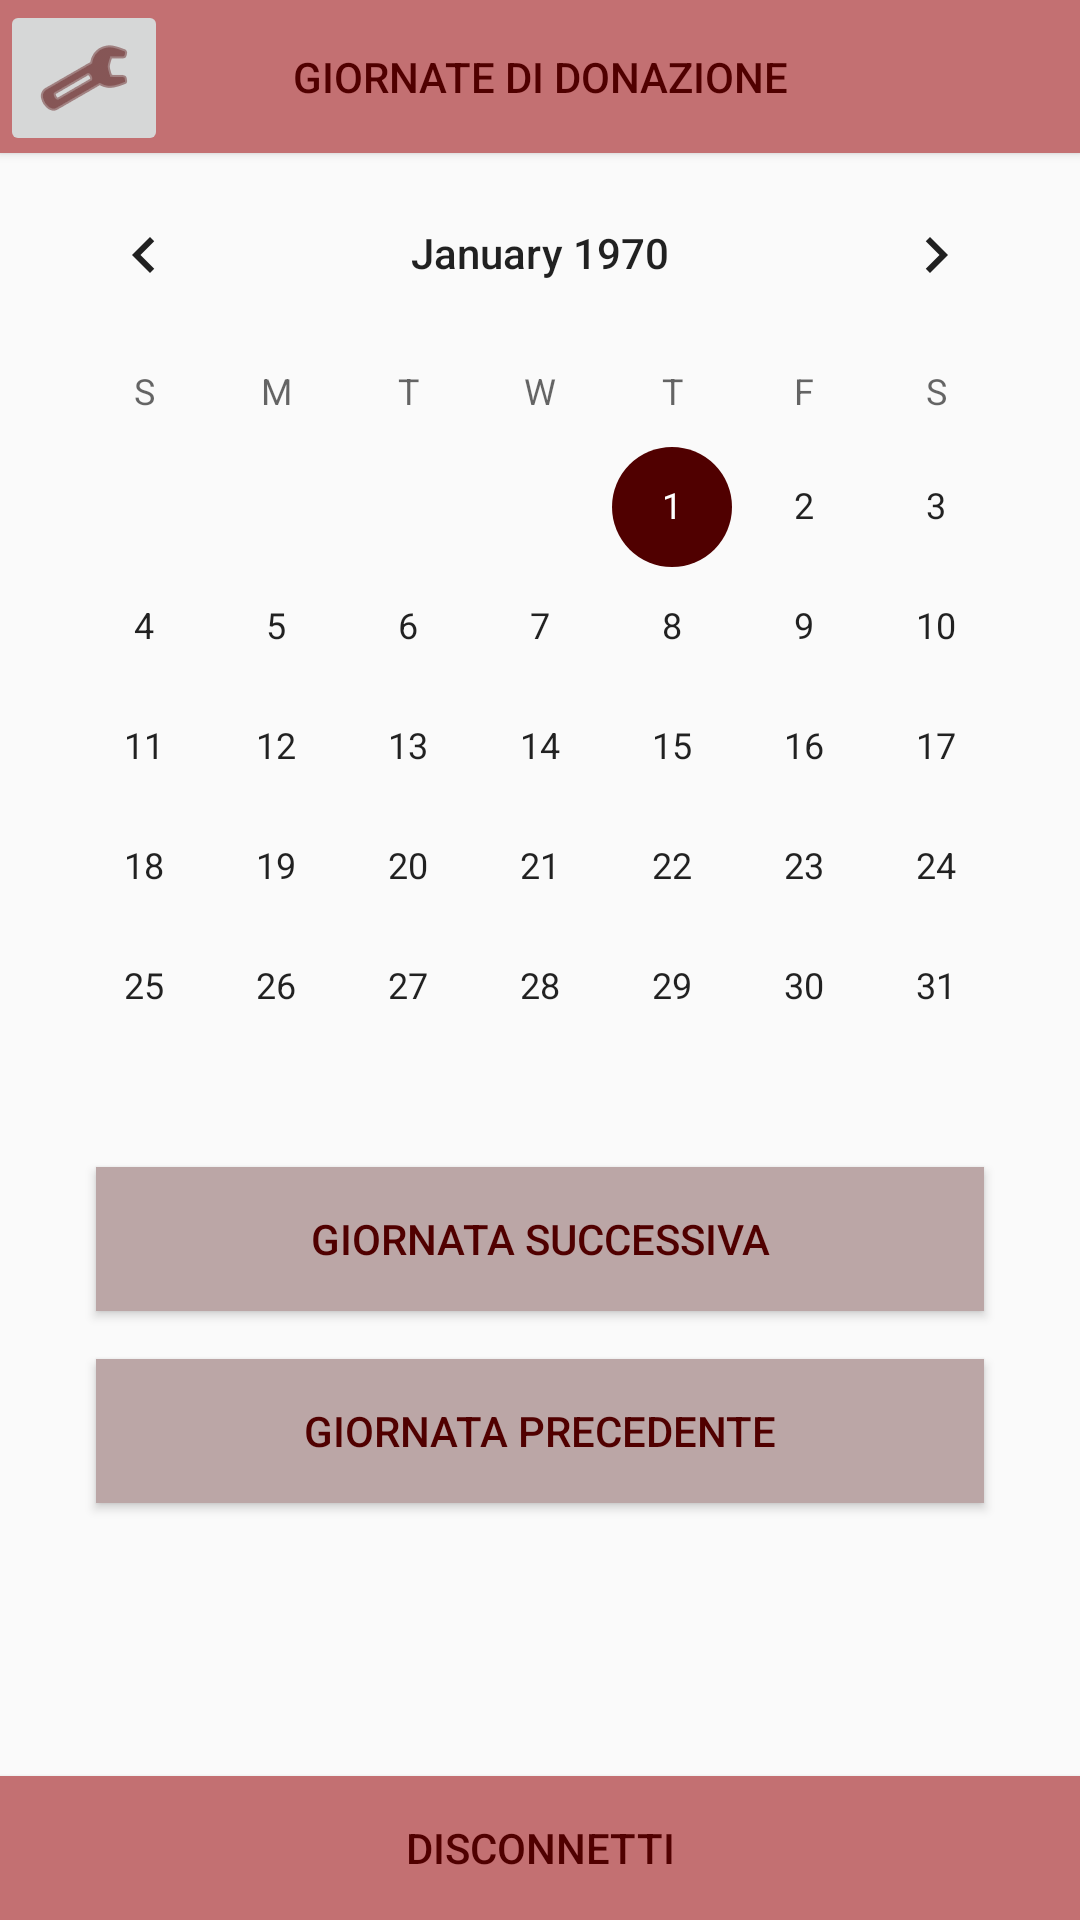

Point at icon controls on the screen. Image size 1080 x 1920, points as [x,y].
setup e preferenze: [84,78]
